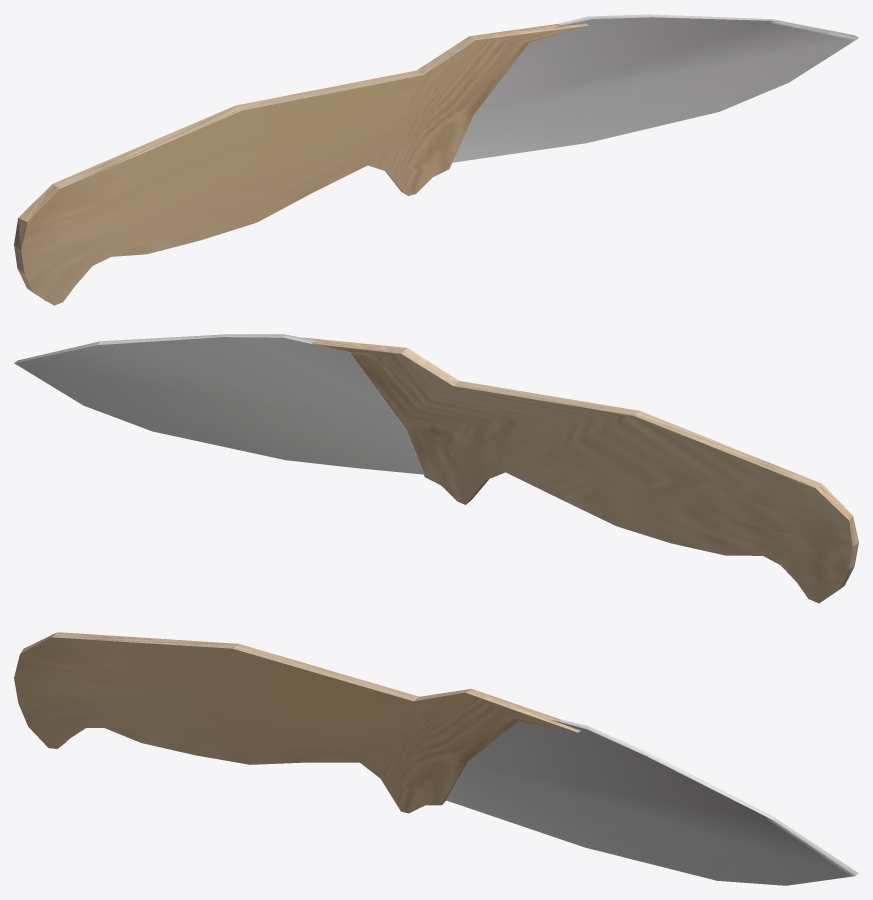
File: nife.obj
3 renders of one model, top to bottom at view 1: azimuth 30°, elevation 25°; view 2: azimuth 150°, elevation 25°; view 3: azimuth 330°, elevation 25°, orthographic. The views are drawn at different scales.
Parts seen in each view (by area): view 1: 立方体, nife_立方体.001; view 2: 立方体, nife_立方体.001; view 3: 立方体, nife_立方体.001.
Part boxes in pixels (x1=…): 立方体: x1=14, y1=23, x2=588, y2=305; nife_立方体.001: x1=452, y1=14, x2=858, y2=162; 立方体: x1=301, y1=337, x2=858, y2=603; nife_立方体.001: x1=14, y1=334, x2=424, y2=474; 立方体: x1=14, y1=632, x2=580, y2=813; nife_立方体.001: x1=446, y1=719, x2=858, y2=885.
Bounding box in the file's own units: 4.37 × 0.7737 × 0.1797.
2 materials, 2 textured.
